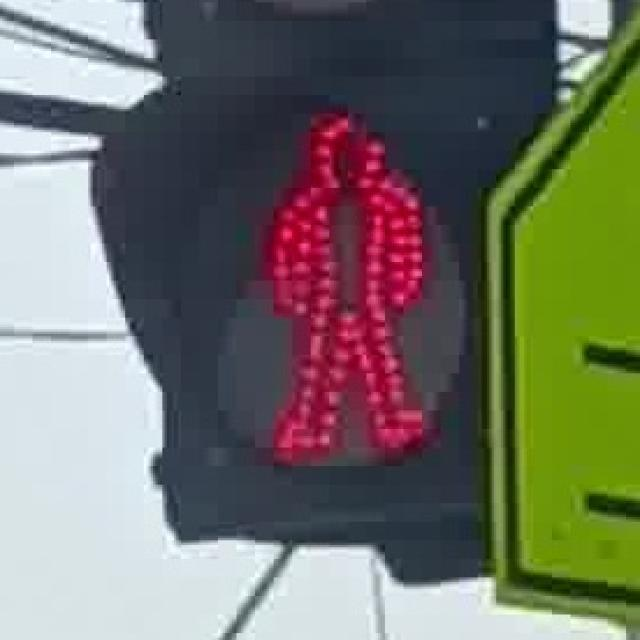red-crossing: (244, 90, 446, 464)
